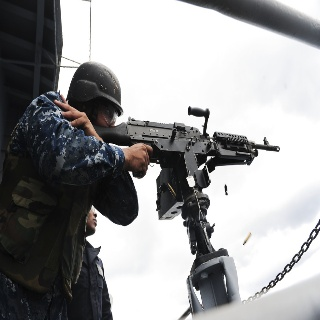rifle: (78, 104, 281, 171)
